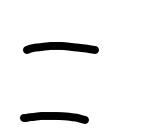eqv: (19, 39, 100, 126)
